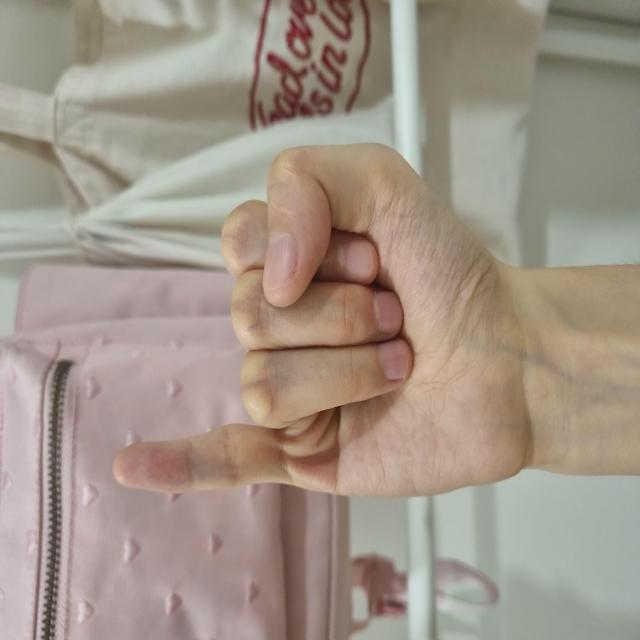I: (140, 111, 500, 534)
